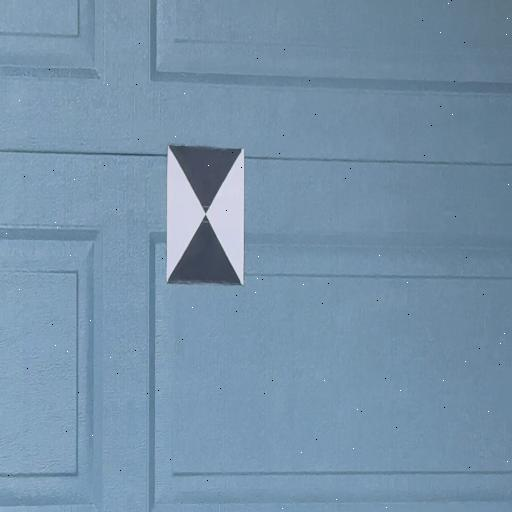target: (168, 144, 244, 286)
